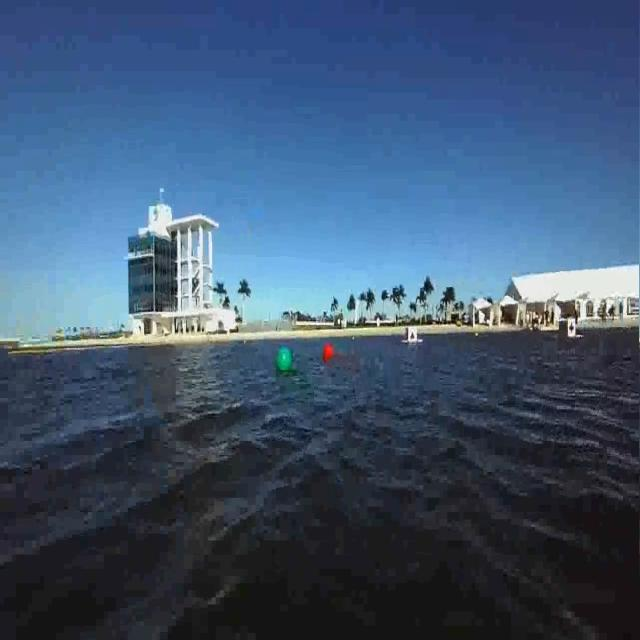green-buoy: (276, 346, 294, 374)
red-buoy: (326, 343, 336, 363)
